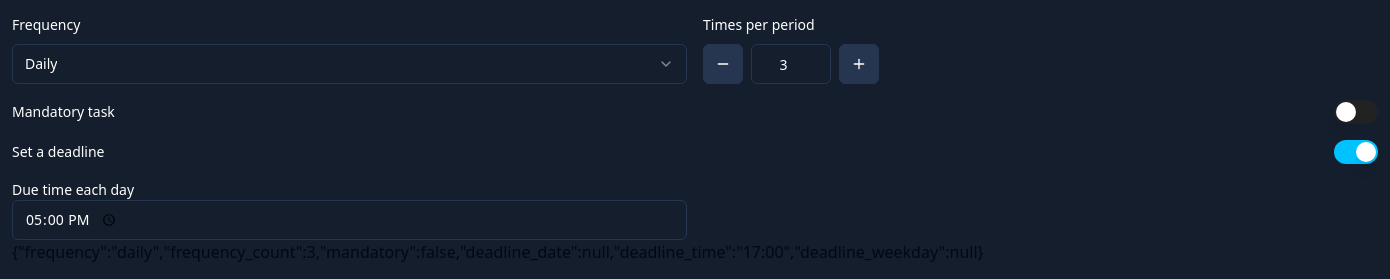
Test: task type interactions › switching frequency clears only the incompatible deadline and sets the one-time target
Later steps or results of the test are not shown.
What coordinates should you click on to do the following:
click the dropdown named "Frequency"
I would click on:
 (41, 64)
Its box is 12,44 -> 687,84.
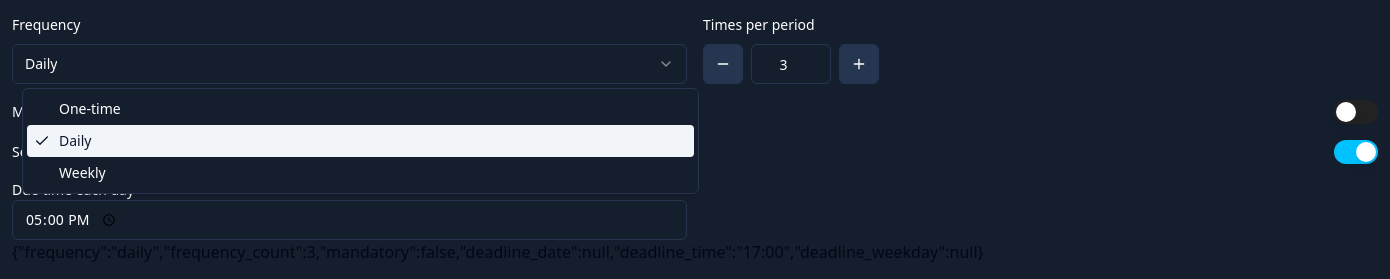
What coordinates should you click on to do the following:
click the option "One-time"
I would click on:
 (90, 108)
Its box is 59,99 -> 121,118.
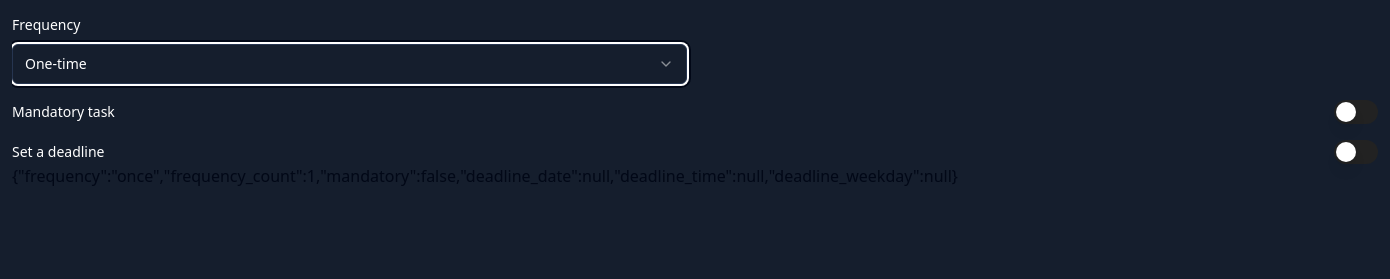
Expected: the text "Times per period" is gone
